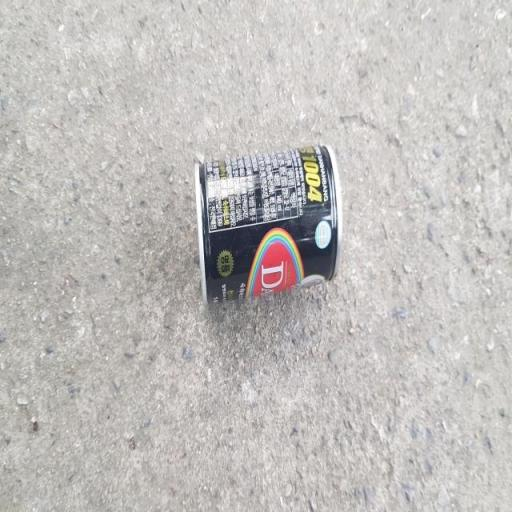metal: (175, 118, 362, 374)
